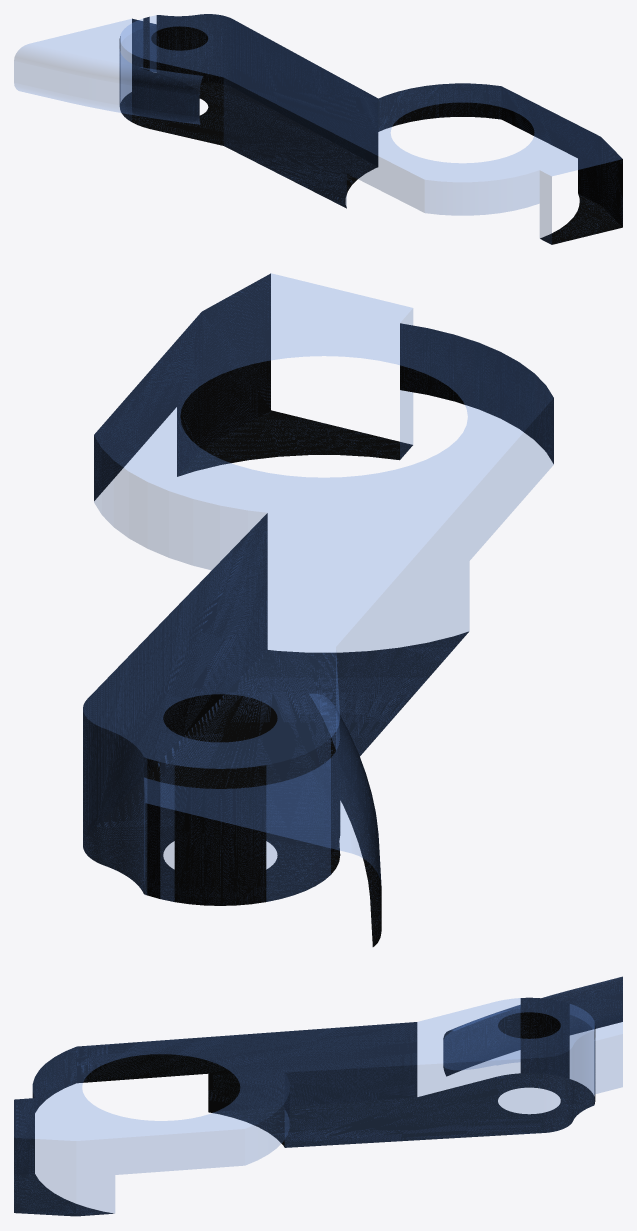
File: original-7.obj
3 views of the same model, one above another, from view 1: azimuth 30°, elevation 25°; view 2: azimuth 150°, elevation 25°; view 3: azimuth 270°, elevation 25° (orthographic). The views are drawn at different scales.
Parts seen in each view (by area): view 1: #ID171; view 2: #ID171; view 3: #ID171.
Boxes of the visible parts, box(x1,y1,x2,y2) form: #ID171: box(14, 14, 622, 244); #ID171: box(83, 273, 553, 946); #ID171: box(14, 976, 622, 1216).
Bounding box in the file's own units: 0.2896 × 0.056 × 0.4103.
